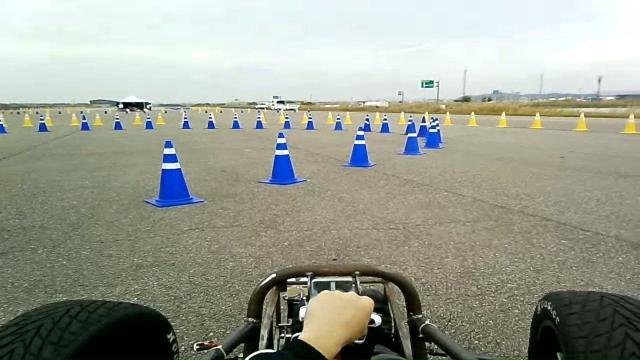blue cone: (143, 140, 204, 207), (258, 132, 306, 185), (341, 129, 376, 167), (396, 132, 426, 155), (422, 126, 444, 149)
yellow cone: (618, 112, 639, 134), (573, 112, 590, 131), (529, 111, 543, 129), (495, 111, 509, 127), (466, 111, 478, 126), (442, 111, 453, 125)
